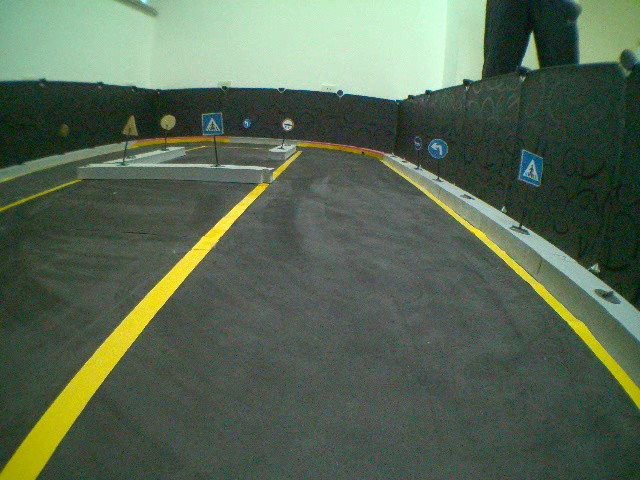Check: (279, 114, 294, 131)
crossing: (517, 148, 545, 188), (200, 112, 222, 136)
horn: (413, 134, 423, 151)
turn: (427, 135, 450, 159), (241, 119, 251, 129)
